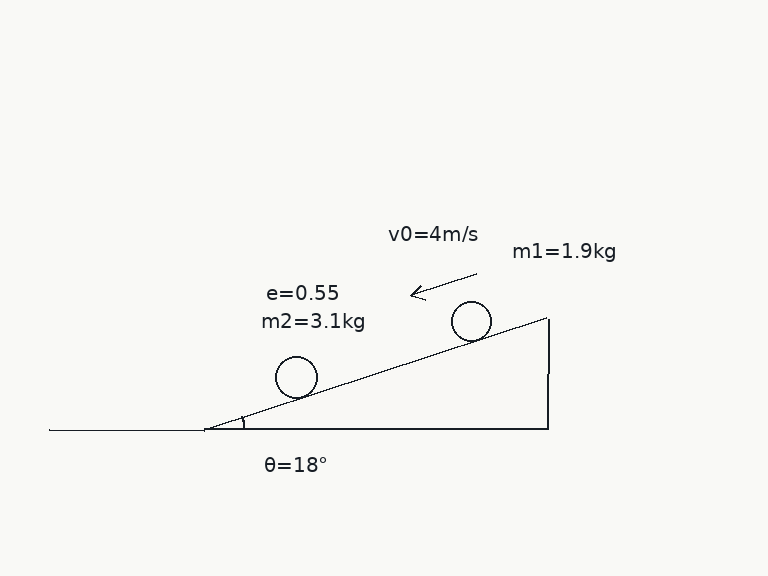ball: (273, 354, 319, 400), (449, 299, 493, 343)
ramp: (202, 316, 548, 431)
